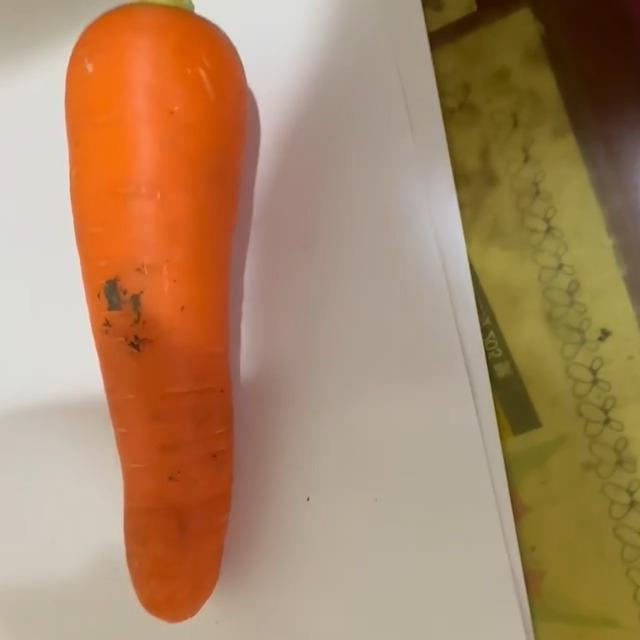carrot: (64, 1, 253, 629)
